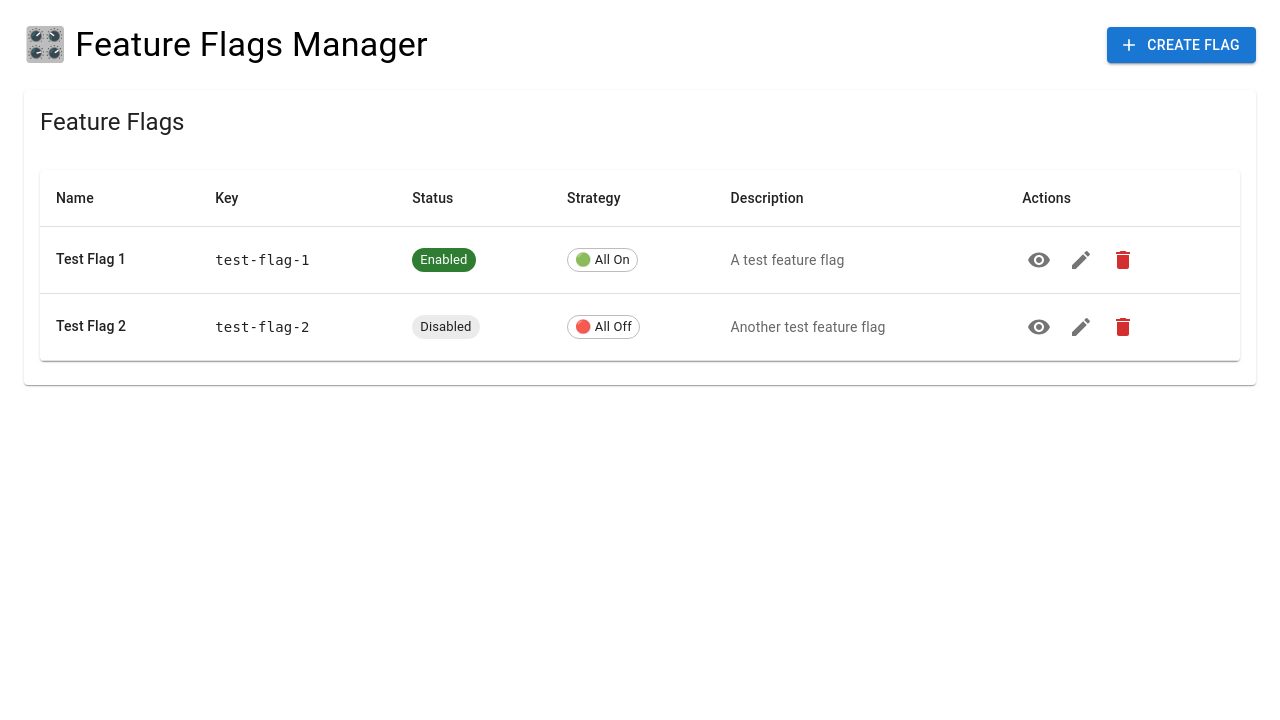
FeatureFlagsManager Component › should open create dialog when create button is clicked
This screenshot has width=1280, height=720.
Click the button "Create Flag" at point(1182, 45), box [1107, 27, 1256, 63]
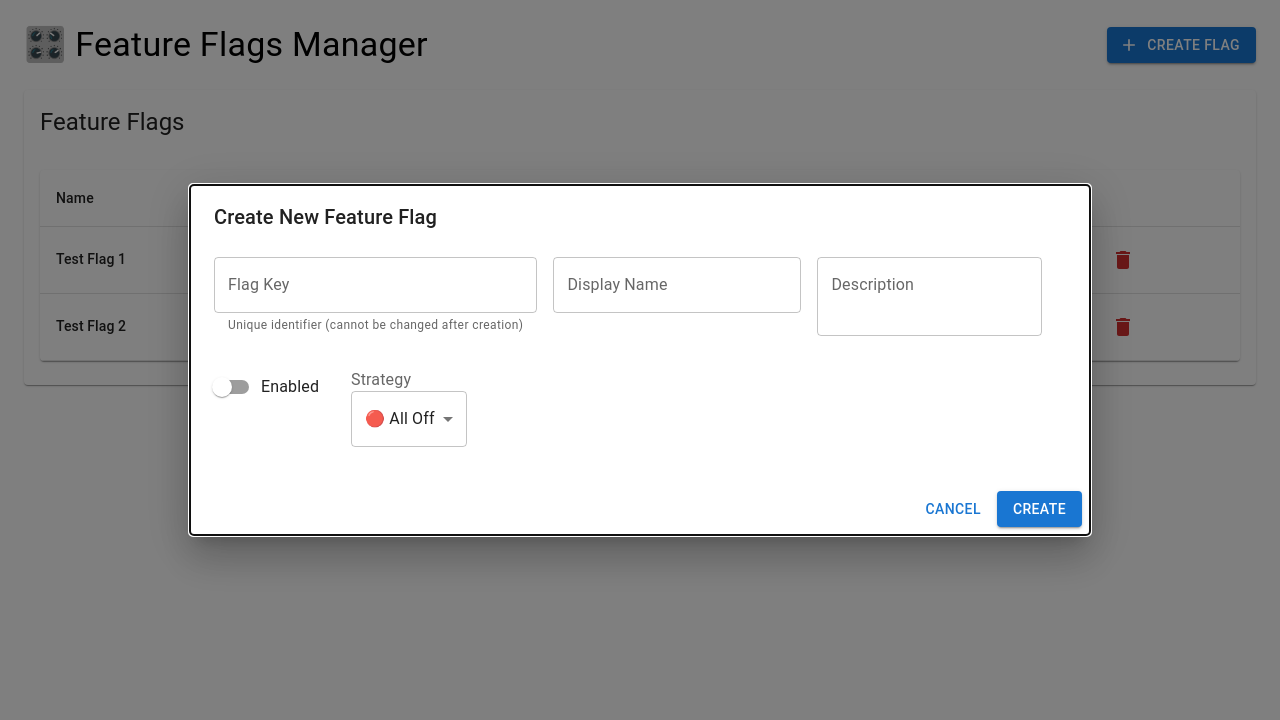
Result: the heading "Create New Feature Flag" is shown at [214, 205, 437, 229]
